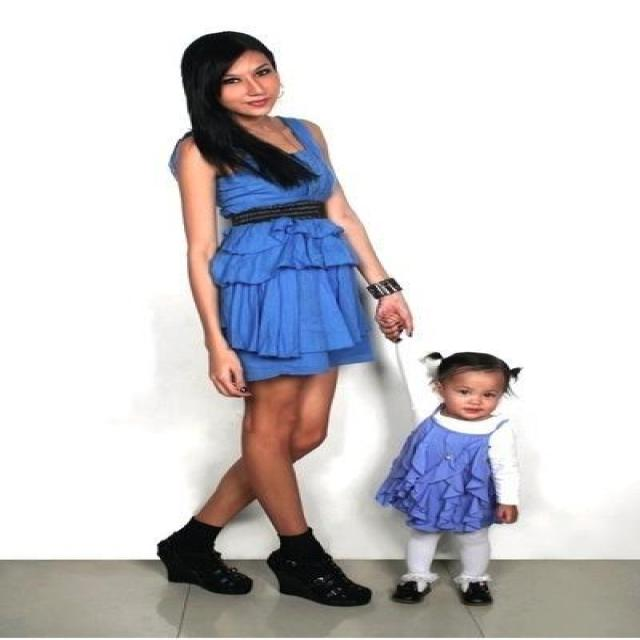dress: (187, 141, 379, 380)
shoe: (156, 516, 370, 606)
